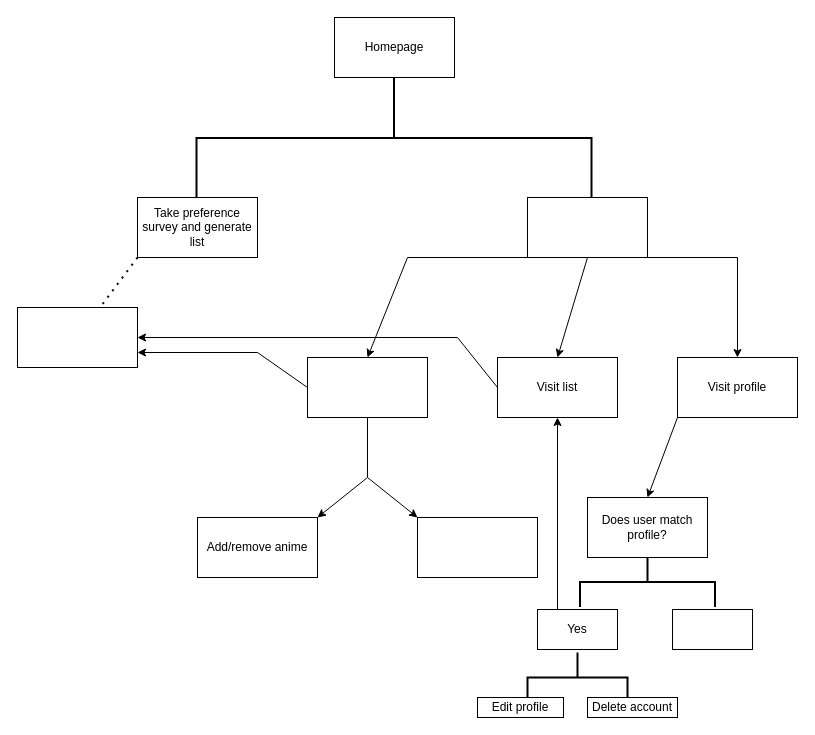
The diagram is 815 pixels wide and 735 high, and some of its shapes have lost their labels. Each missing label, with the box of its shape:
Create new list: (306, 356, 428, 418)
Edit title/description of anime: (416, 516, 538, 578)
No: (672, 608, 752, 650)
Register/login: (526, 196, 648, 258)
Share list: (16, 306, 138, 368)
